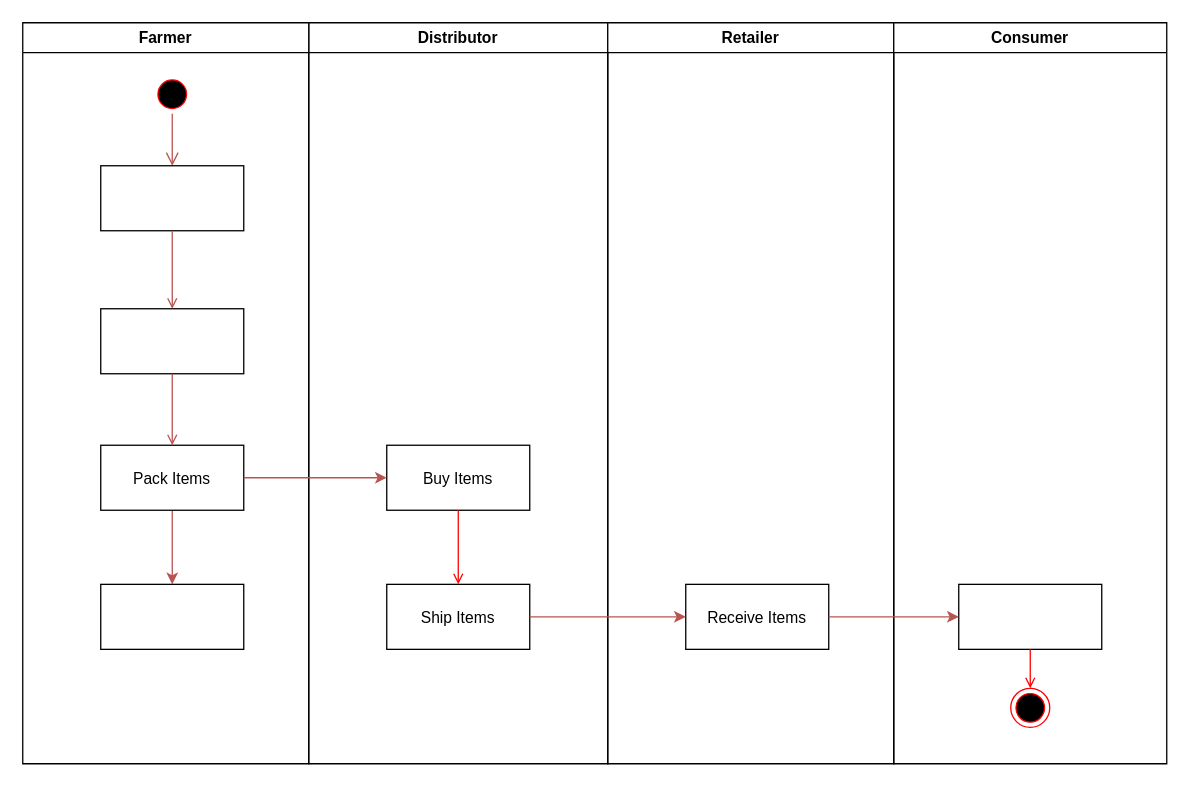
Image size: 1190x787. Some labels were removed from this diagram. Here are the shapes that lost their labels. From the top down, the centre of each, then its label:
the point at 171,197: Harvest Items
the point at 171,340: Process Items
the point at 171,616: Add Items
the point at 1029,616: Purchase Items
